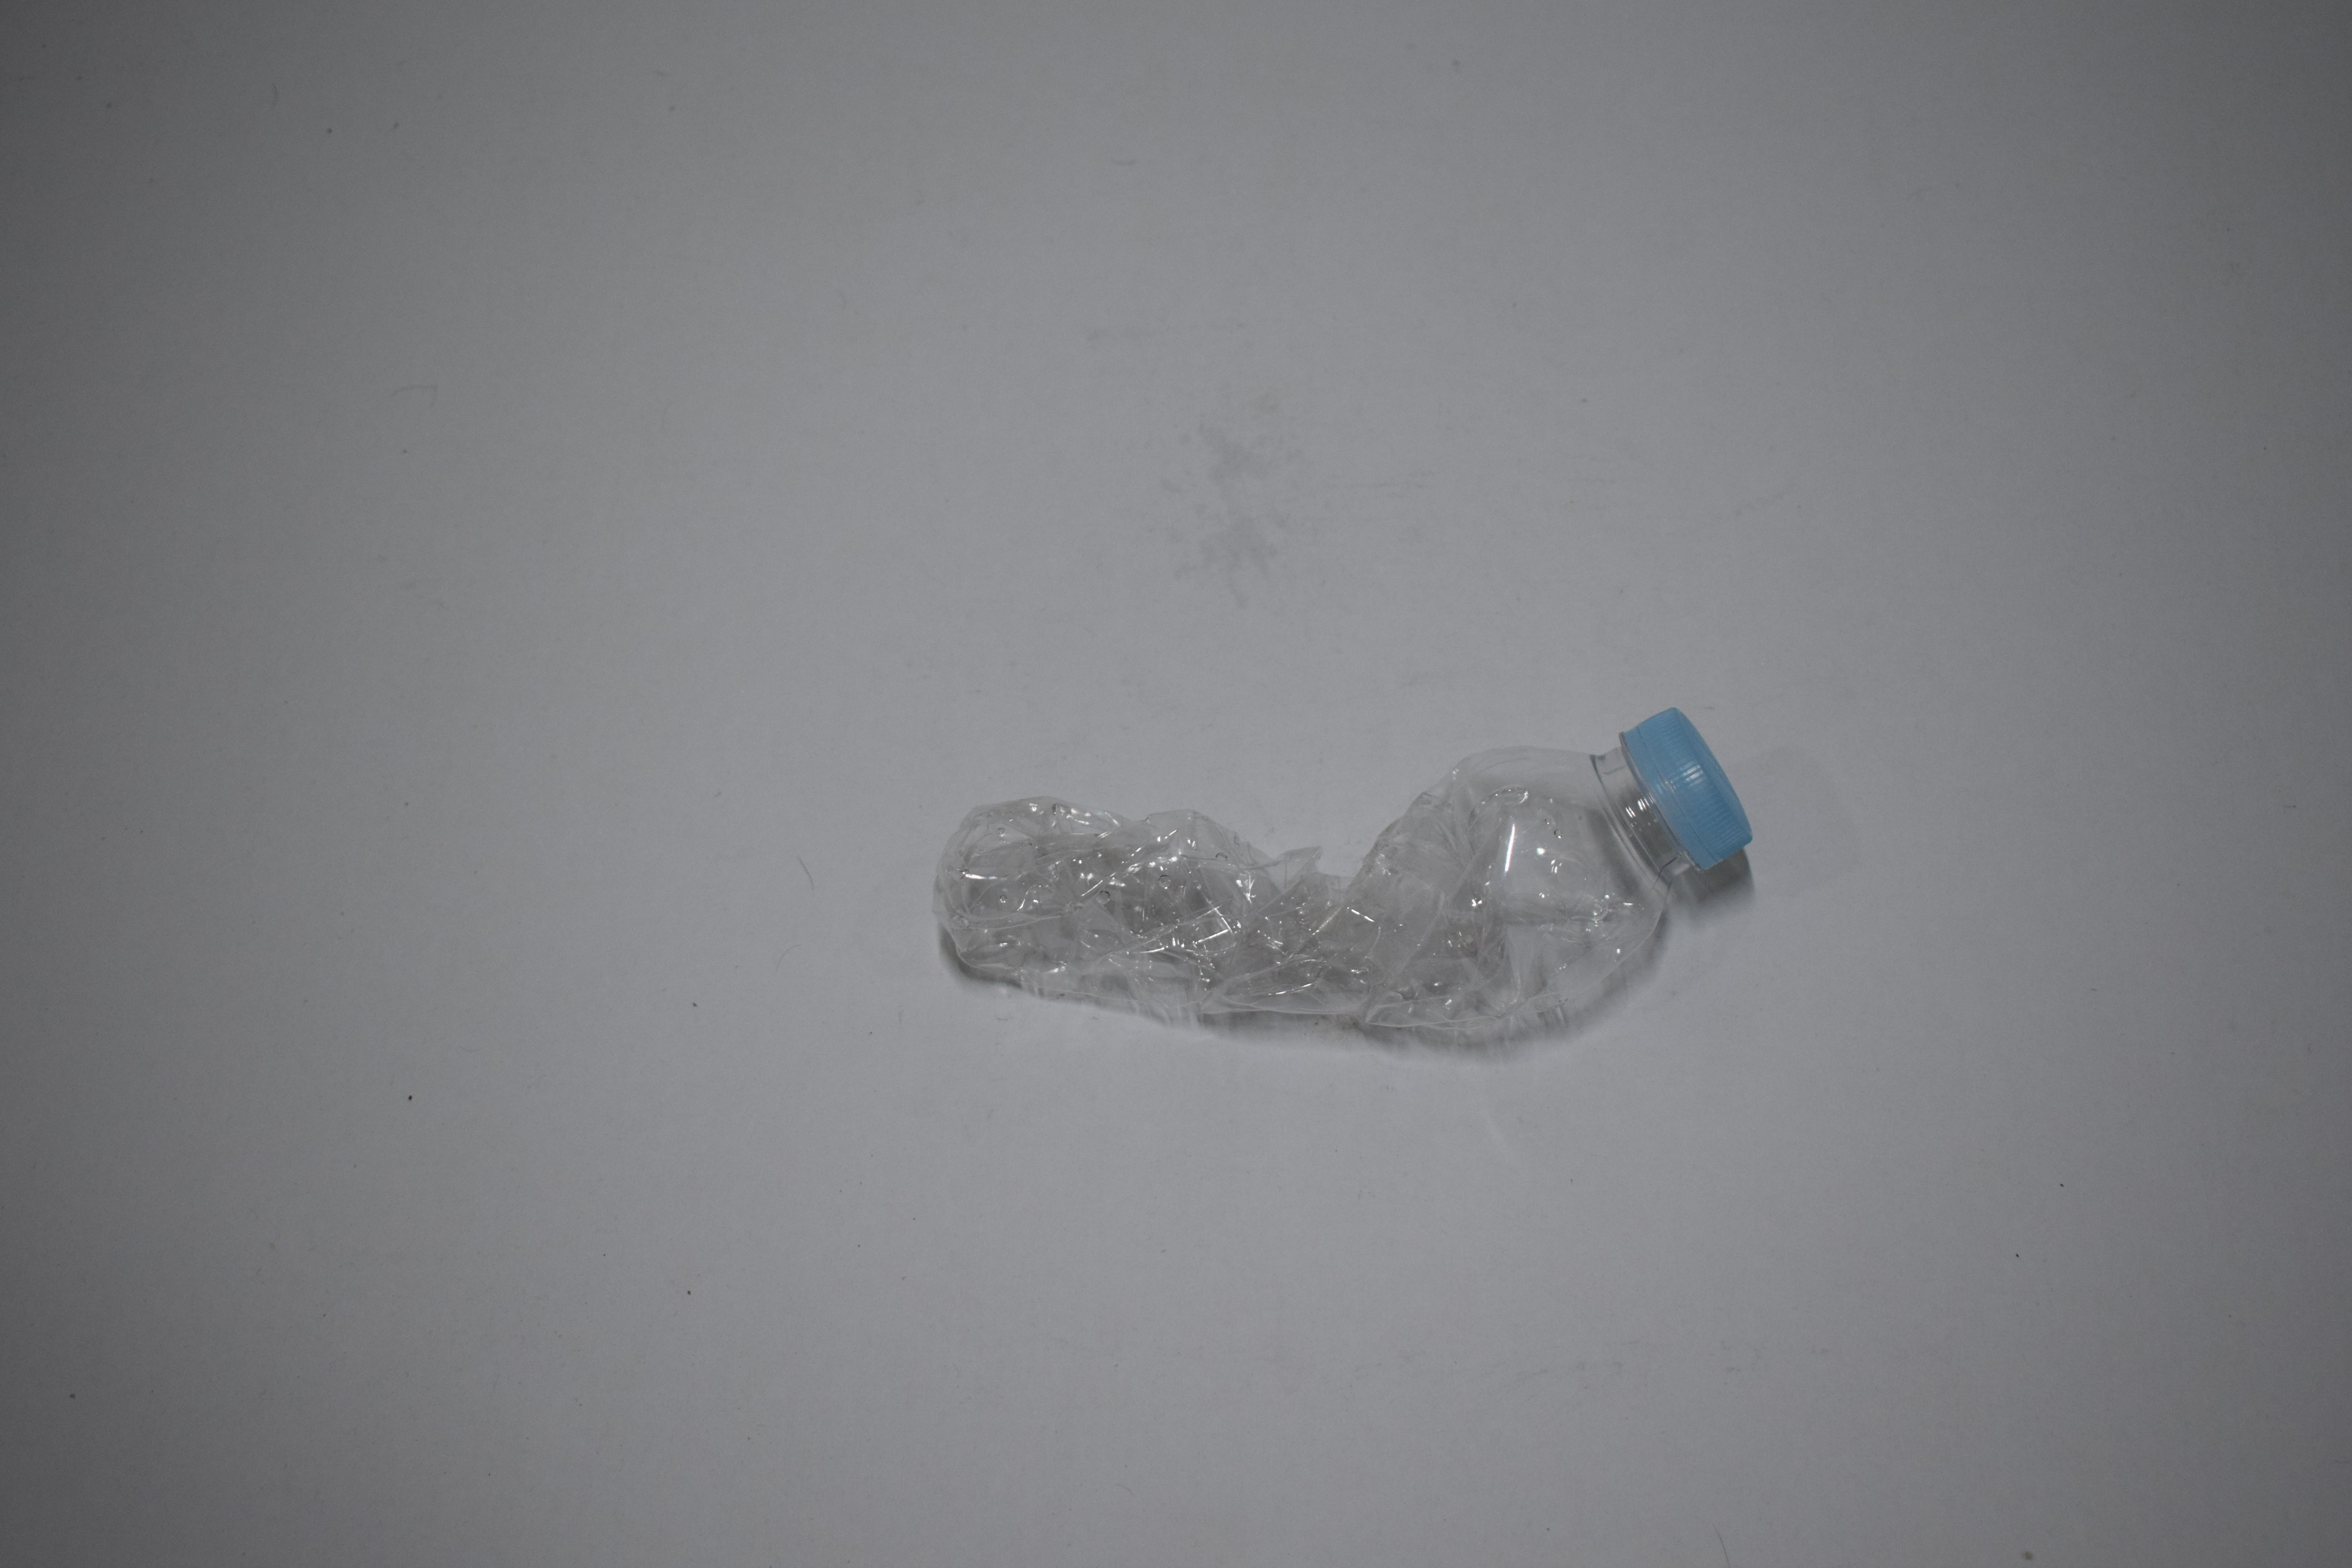bottle: (0, 0, 518, 199)
